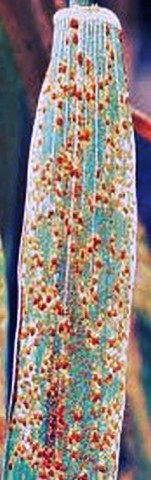Leaf Rust: (13, 18, 140, 472)
